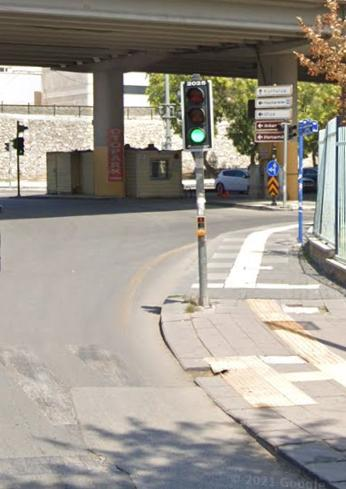greenlight: (185, 82, 208, 146)
